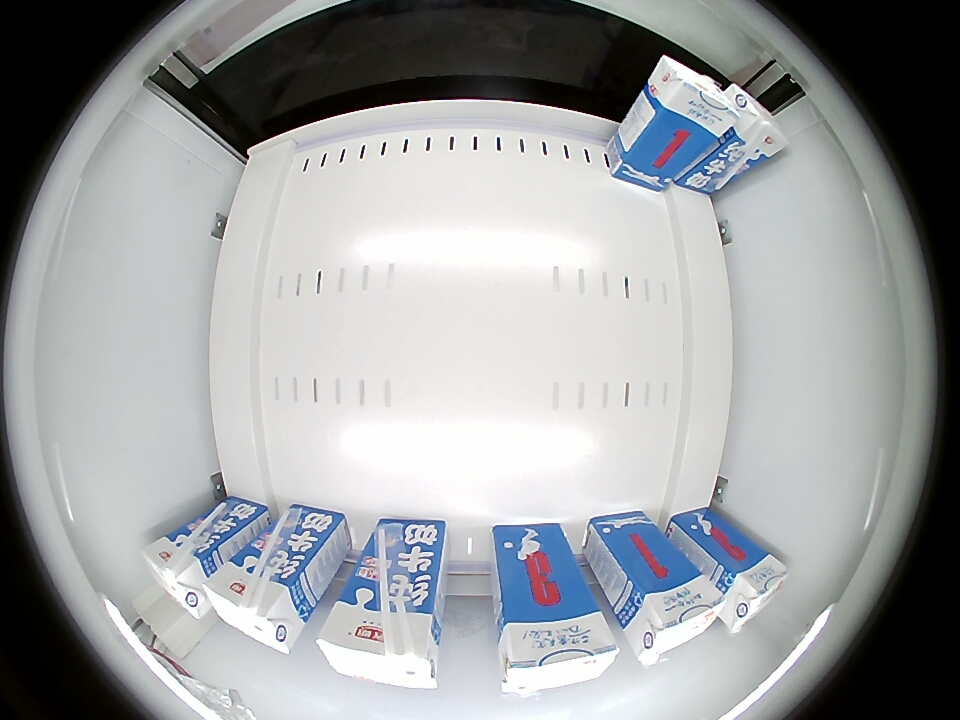niunai: (317, 593, 440, 690), (497, 607, 621, 696), (624, 570, 729, 668), (202, 561, 307, 657), (647, 55, 737, 136), (141, 533, 212, 621), (721, 548, 789, 634), (723, 85, 788, 164)
